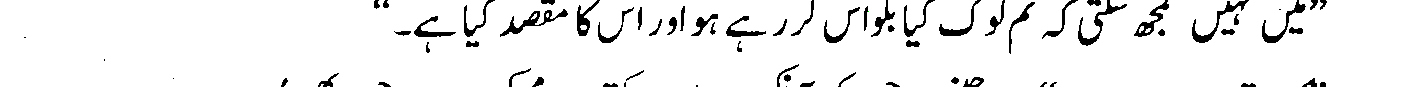bay_shosha: (883, 9, 898, 32)
